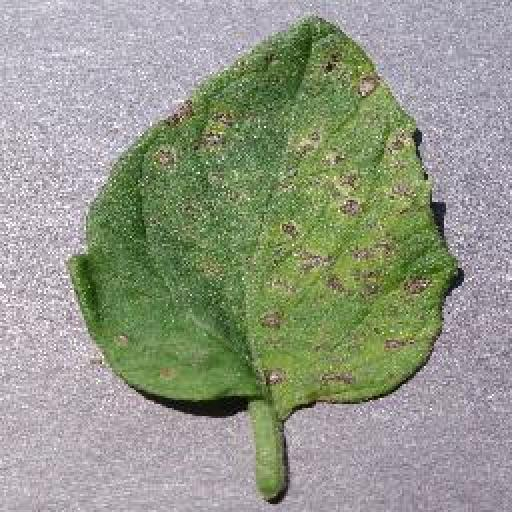disease_tomato: (62, 16, 461, 411)
